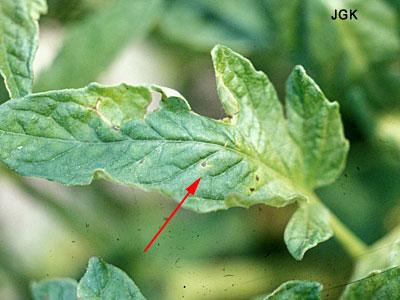Tomato leaf late blight: (2, 44, 353, 217)
